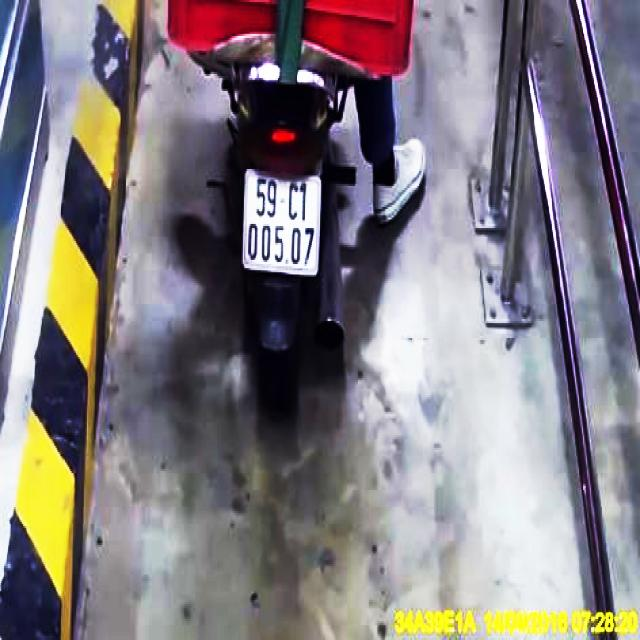license_plate: (244, 171, 322, 276)
